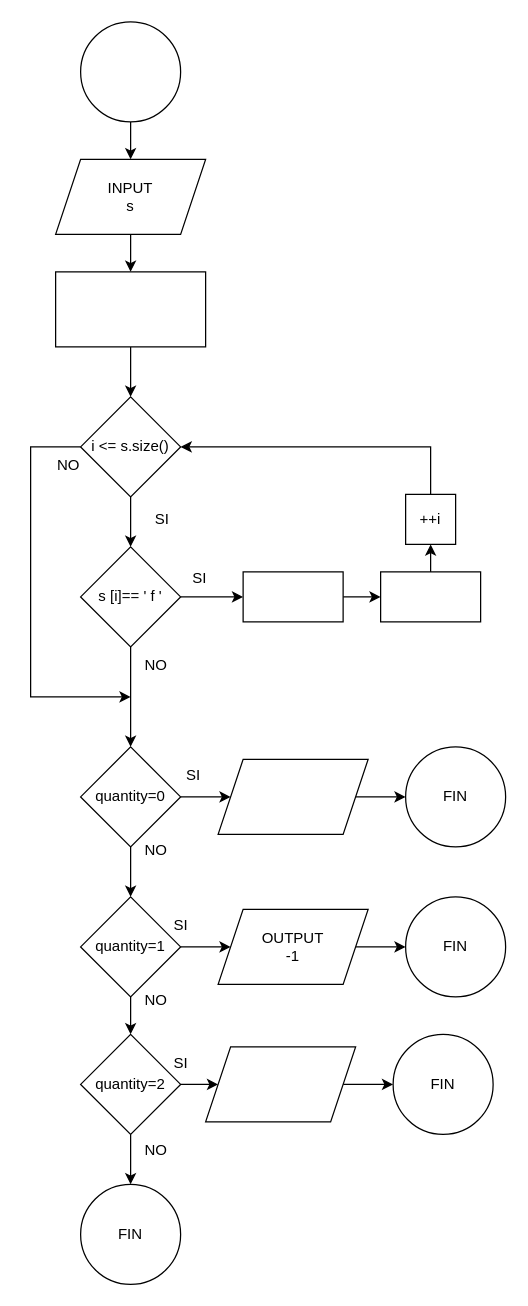
Some shapes in this 528 by 1306 pixel diagram are drawn without their labels. Here are the shapes that lost their labels. From the top down, the centre of each, then its label:
[130,71]: INICIO
[130,309]: quantity = 0 second = 0 i = 0
[292,596]: second = i
[430,596]: ++quantity
[292,796]: OUTPUT -2
[280,1084]: OUTPUT second
